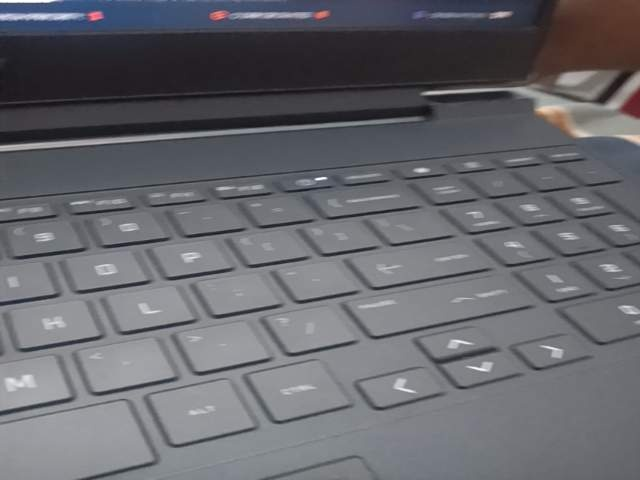pothole: (106, 403, 317, 480), (536, 403, 640, 480)
